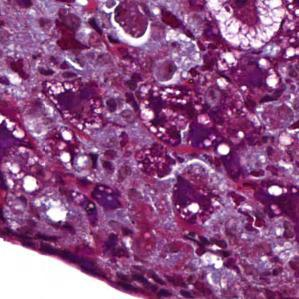ballooning: (204, 0, 289, 52)
